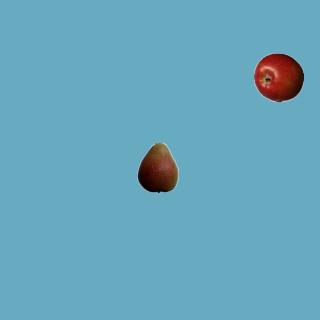Apple Braeburn: (253, 52, 303, 102)
Pear Forelle: (132, 142, 182, 192)
